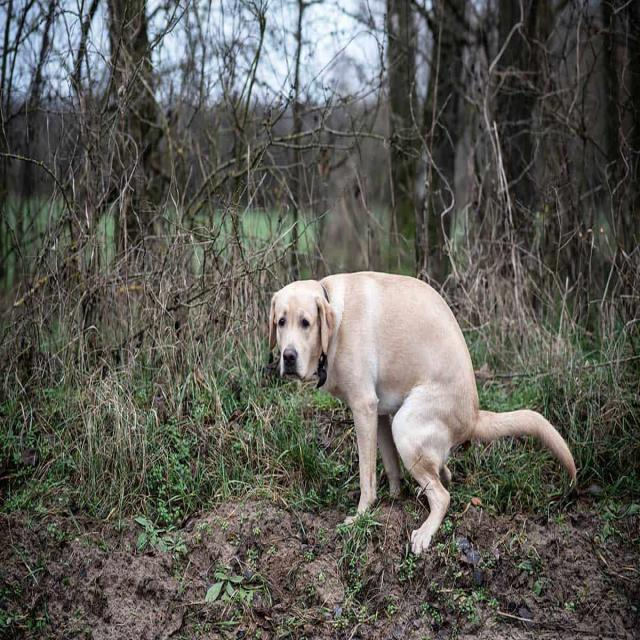Dogpoop: (268, 266, 576, 548)
